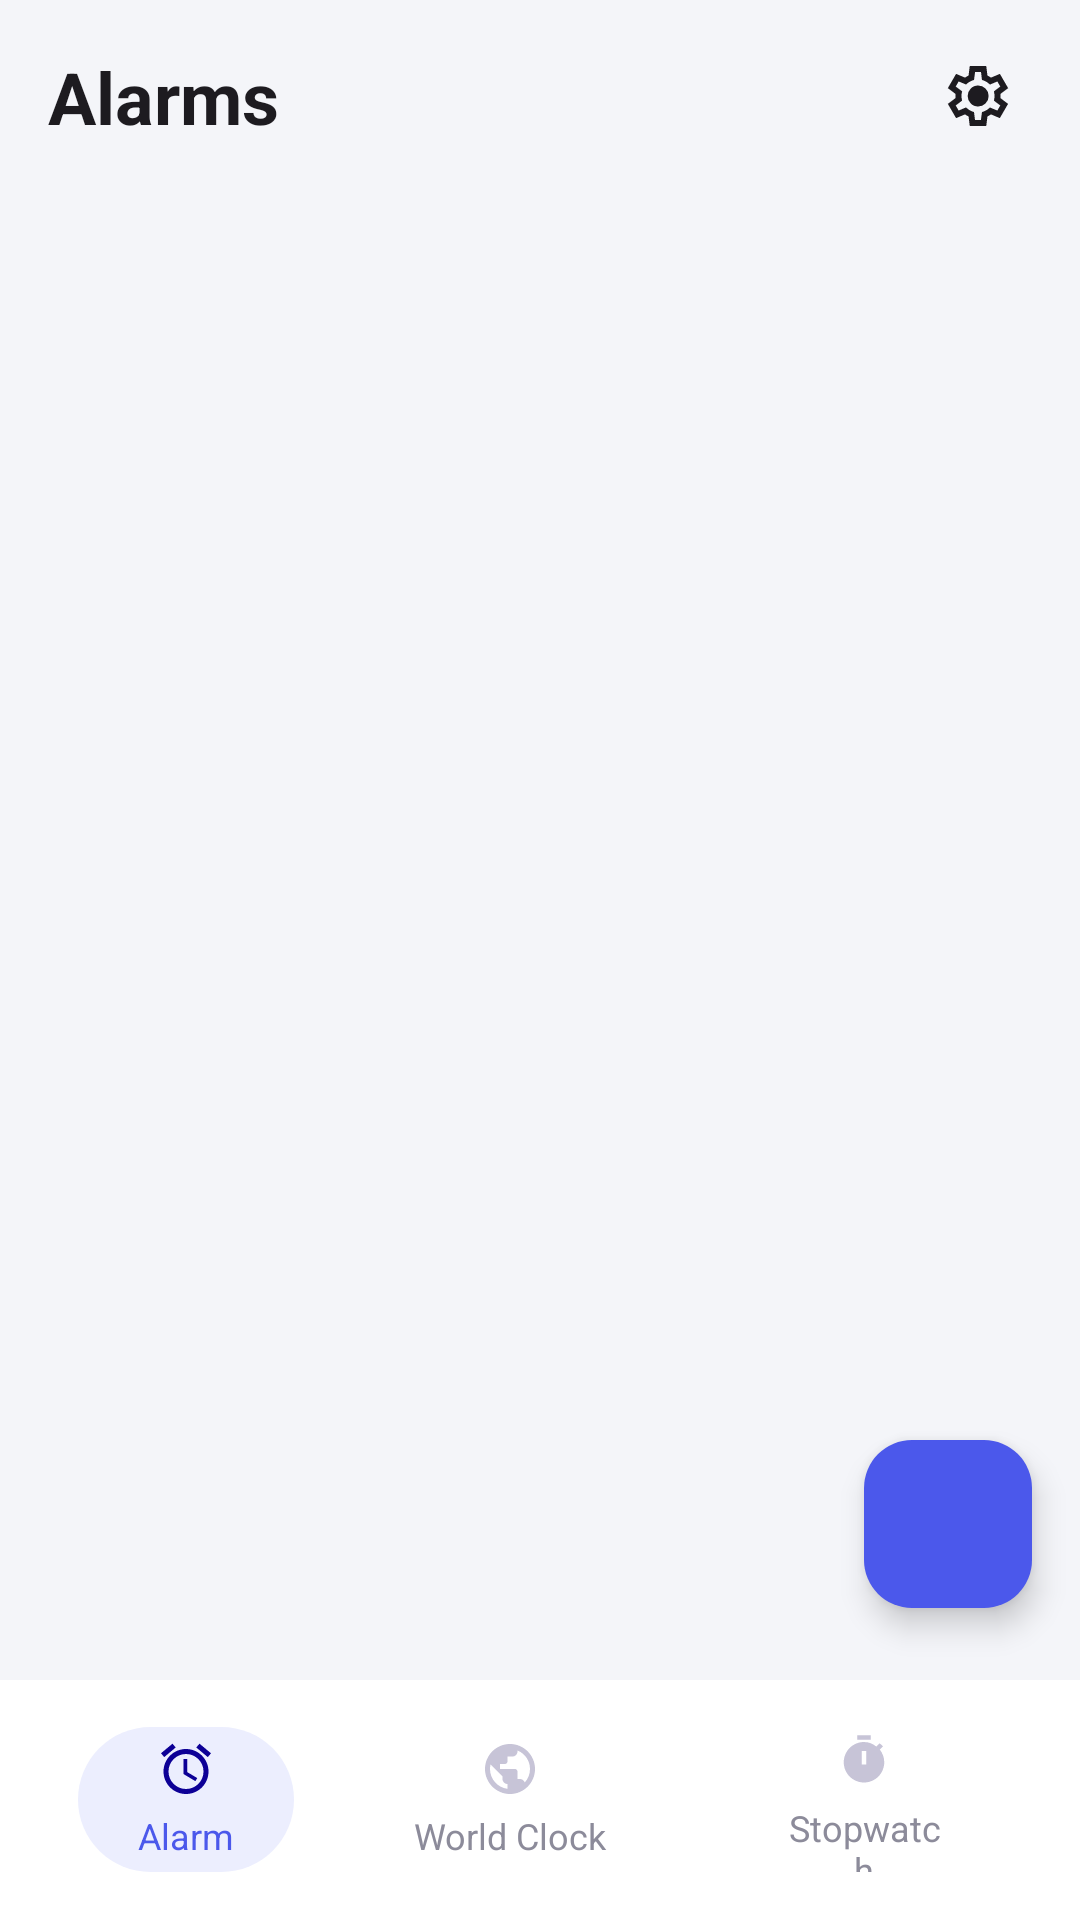

Icons on this 1080w x 1920h Android screen, each with its box as [left=x1, top=y1, right=x2, bottom=y2]:
Settings: [left=948, top=66, right=1008, bottom=126]
